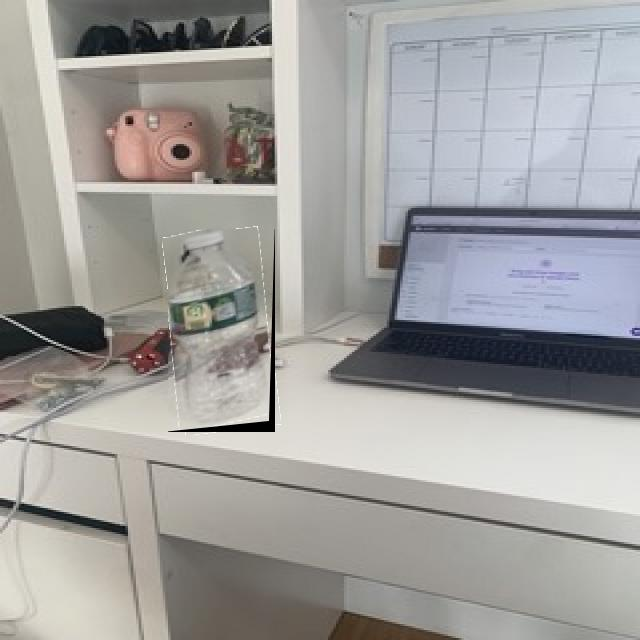water_bottle: (168, 229, 275, 432)
